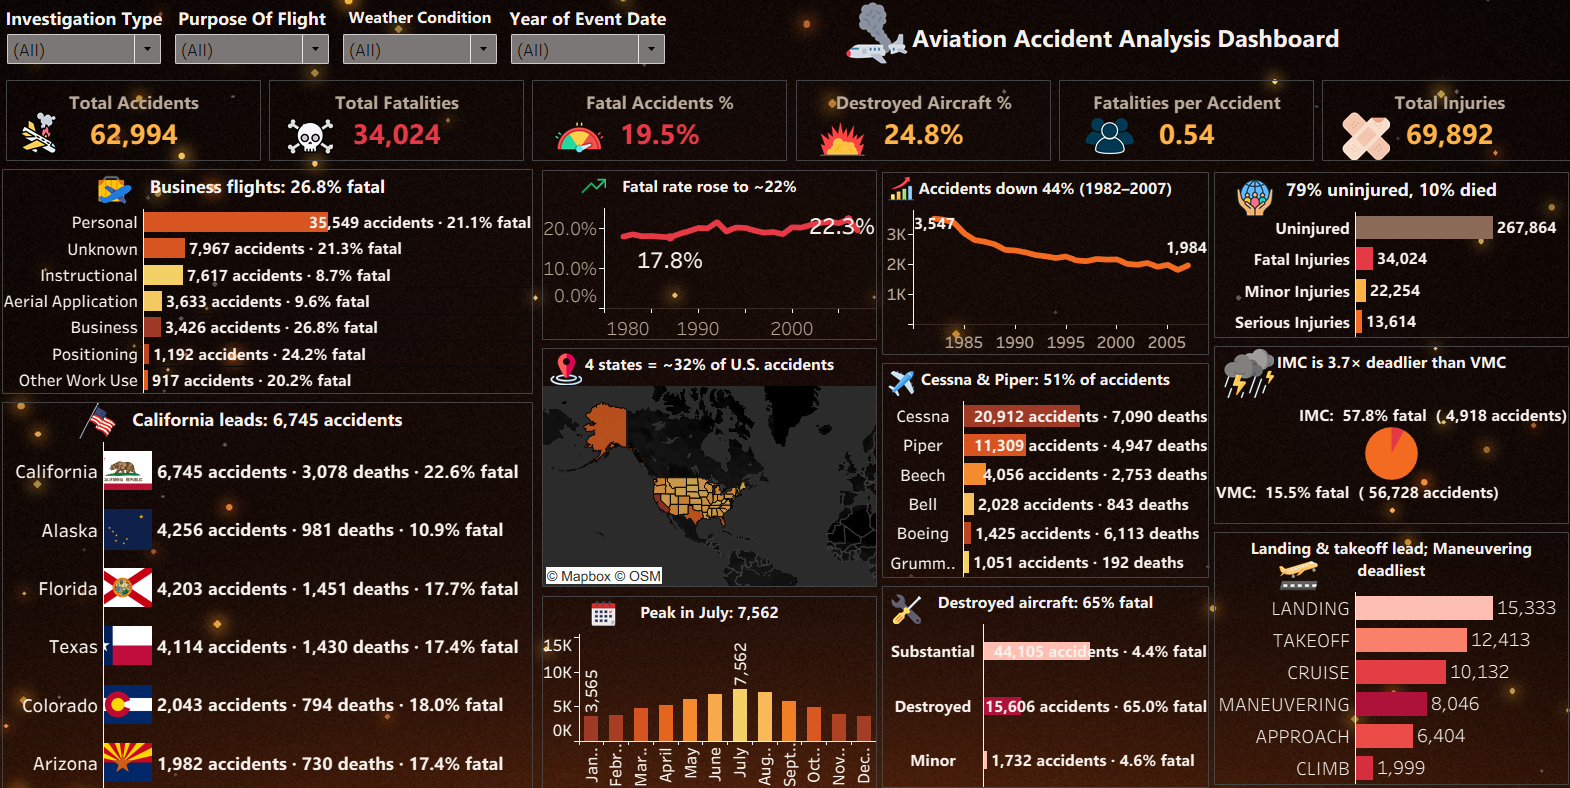

The dashboard page shown, as its layout file describes it:
{"tool":"tableau","page":{"name":"Aviation Accident Analysis Dashboard","canvas":[1600,800],"ordinal":0},"visuals":[{"type":"image","param":"Image/airplane-accident (1).png","box":[777,6,208,63]},{"type":"filter","title":"Accidents Over Time","param":"[federated.0ho7zld0693xbi1gcr0r40fkg1rf].[none:investigation_type:nk]","box":[10,7,168,67]},{"type":"filter","title":"Accidents Over Time","param":"[federated.0ho7zld0693xbi1gcr0r40fkg1rf].[none:purpose_of_flight:nk]","box":[178,7,168,67]},{"type":"filter","title":"Accidents Over Time","param":"[federated.0ho7zld0693xbi1gcr0r40fkg1rf].[Weather Condition (group)]","box":[346,7,168,67]},{"type":"filter","title":"Accidents Over Time","param":"[federated.0ho7zld0693xbi1gcr0r40fkg1rf].[yr:event_date:ok]","box":[514,7,168,67]},{"type":"text","box":[682,7,911,67]},{"type":"worksheet","title":"KPI Total Accidents","mark":"Automatic","box":[6,81,265.2,89]},{"type":"worksheet","title":"KPI Total Fatalities","mark":"Automatic","box":[271.2,81,265.2,89]},{"type":"worksheet","title":"KPI Fatal %","mark":"Automatic","box":[536.3,81,265.2,89]},{"type":"worksheet","title":"KPI Destroyed %","mark":"Automatic","box":[801.5,81,265.2,89]},{"type":"worksheet","title":"KPI Fatalities per Accident","mark":"Automatic","box":[1066.7,81,265.2,89]},{"type":"worksheet","title":"KPI Total Injuries","mark":"Automatic","box":[1331.8,81,265.2,89]},{"type":"image","param":"Image/airplane-accident.png","box":[10,115,73,48]},{"type":"image","param":"Image/pngegg.png","box":[1077,116,73,48]},{"type":"image","param":"Image/skull.png","box":[278,117,73,48]},{"type":"image","param":"Image/bandage.png","box":[1334,117,73,48]},{"type":"image","param":"Image/gauge.png","box":[547,118,73,48]},{"type":"image","param":"Image/explosion.png","box":[810,119,73,48]},{"type":"worksheet","title":"Purpose of Flight","mark":"Automatic","rows":["purpose_of_flight"],"cols":["Calculation_1609203894407168"],"box":[2,170,539,233]},{"type":"worksheet","title":"People Impact","mark":"Automatic","box":[1236,170,363,182.6]},{"type":"worksheet","title":"Fatal % Over Time","mark":"Automatic","rows":["Calculation_1609203894874114"],"cols":["event_date"],"box":[542,171,356,185]},{"type":"worksheet","title":"Accidents Over Time","mark":"Automatic","rows":["Calculation_1609203894407168"],"cols":["event_date"],"box":[896,173,340,191]},{"type":"image","param":"Image/business-travel.png","box":[51,176,136,37]},{"type":"image","param":"Image/social-impact.png","box":[1261,177,49,41]},{"type":"image","param":"Image/growth.png","box":[909,179,26,28]},{"type":"image","param":"Image/trend.png","box":[551,181,33,25]},{"type":"worksheet","title":"Weather Pie","mark":"Pie","box":[1236,352.6,363,186]},{"type":"worksheet","title":"Map","mark":"Multipolygon","box":[542,356,356,254]},{"type":"image","param":"Image/thunder.png","box":[1245,360,48,38]},{"type":"image","param":"Image/location.png","box":[557,363,33,27]},{"type":"worksheet","title":"Top Makes","mark":"Automatic","rows":["make"],"cols":["Calculation_1609203894407168"],"box":[896,364,340,223]},{"type":"image","param":"Image/plane.png","box":[911,372,26,33]},{"type":"image","param":"Image/america.png","box":[49,407,106,37]},{"type":"image","param":"Image/takeoff.png","box":[1277,558,93,42]},{"type":"image","param":"Image/settings.png","box":[910,601,39,30]},{"type":"image","param":"Image/calendar.png","box":[581,618,64,26]}]}

Visuals, with their boxes in screenshot pixels (x1, y1, x2, y2), scaled from the page's 1600x800 canvas onto the 1570x788 screenshot:
image: 762 6 967 68
"Accidents Over Time" filter: 10 7 175 73
"Accidents Over Time" filter: 175 7 340 73
"Accidents Over Time" filter: 340 7 504 73
"Accidents Over Time" filter: 504 7 669 73
text: 669 7 1563 73
"KPI Total Accidents" worksheet: 6 80 266 167
"KPI Total Fatalities" worksheet: 266 80 526 167
"KPI Fatal %" worksheet: 526 80 786 167
"KPI Destroyed %" worksheet: 786 80 1047 167
"KPI Fatalities per Accident" worksheet: 1047 80 1307 167
"KPI Total Injuries" worksheet: 1307 80 1567 167
image: 10 113 81 161
image: 1057 114 1128 162
image: 273 115 344 163
image: 1309 115 1381 163
image: 537 116 608 164
image: 795 117 866 164
"Purpose of Flight" worksheet: 2 167 531 397
"People Impact" worksheet: 1213 167 1569 347
"Fatal % Over Time" worksheet: 532 168 881 351
"Accidents Over Time" worksheet: 879 170 1213 359
image: 50 173 183 210
image: 1237 174 1285 215
image: 892 176 917 204
image: 541 178 573 203
"Weather Pie" worksheet (Pie marks): 1213 347 1569 531
"Map" worksheet (Multipolygon marks): 532 351 881 601
image: 1222 355 1269 392
image: 547 358 579 384
"Top Makes" worksheet: 879 359 1213 578
image: 894 366 919 399
image: 48 401 152 437
image: 1253 550 1344 591
image: 893 592 931 622
image: 570 609 633 634
